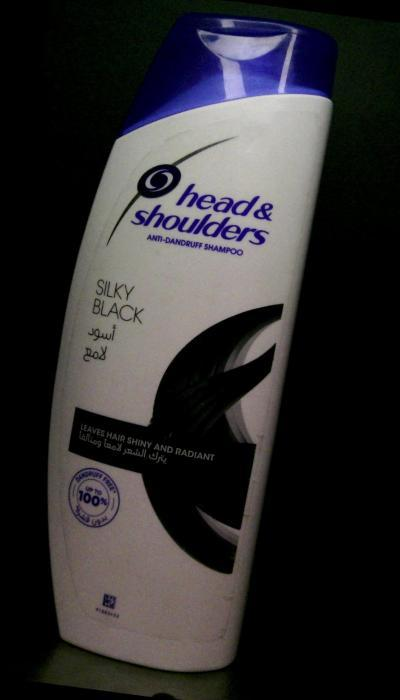tear_marg: (241, 416, 273, 454)
